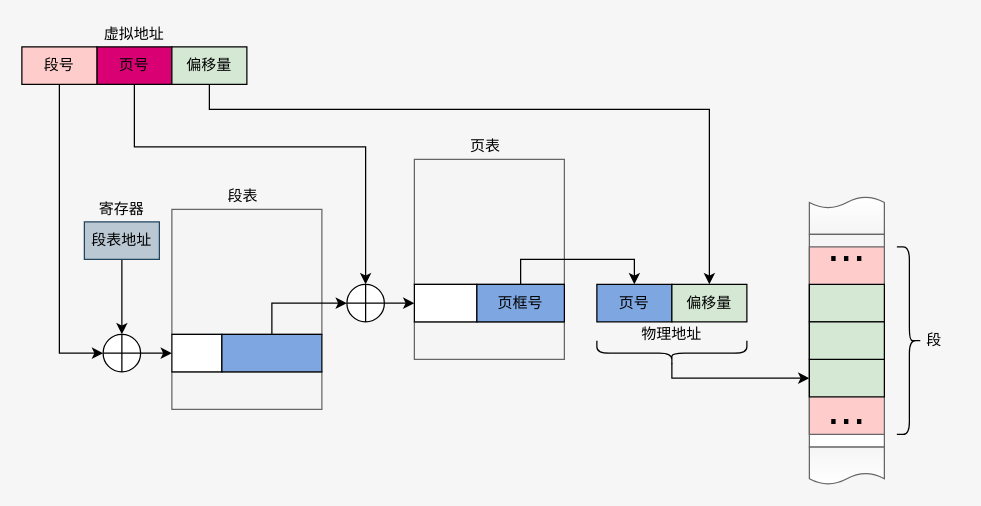
The diagram is 981 pixels wide and 506 high, and some of its shapes have lost their labels. The shapes that lost their labels are listed below. From the top down, each one's centre as x and y in pixels, then its label:
[445,302]: 控制位
[196,352]: 长度
[271,352]: 该段页表基址
[846,377]: 目标页
